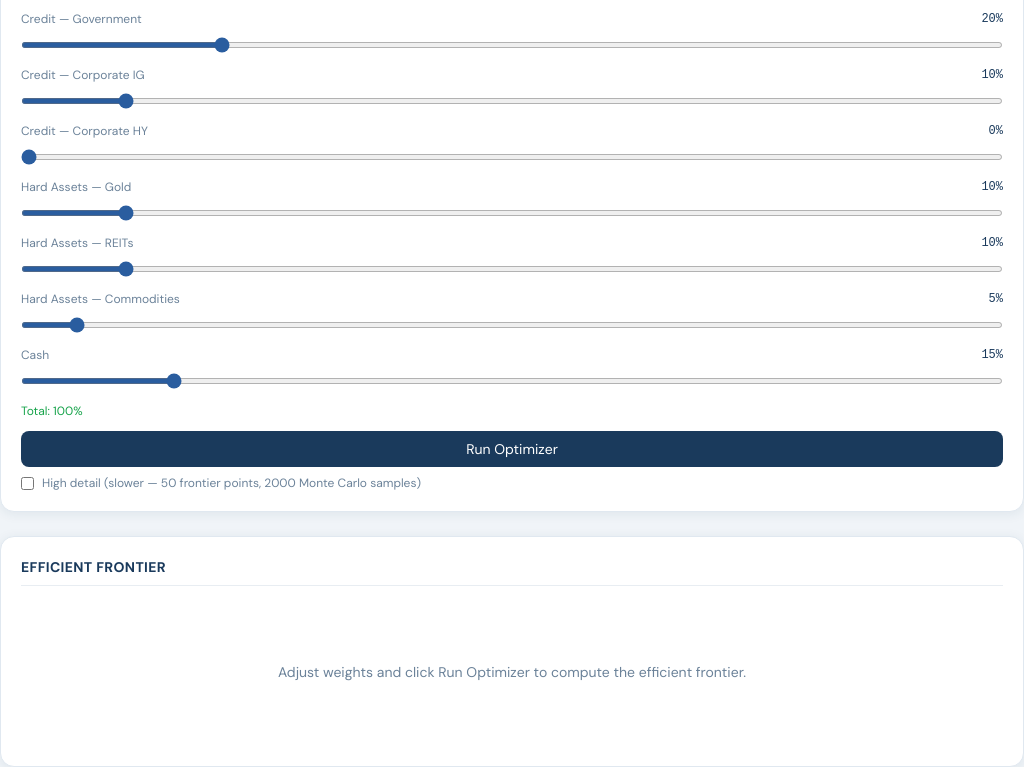
PortfolioPage › shows current allocation breakdown without comparison columns
(page scrolled)
Expected: the heading "Efficient Frontier" is shown, top-left (21, 557), bottom-right (1003, 586)
Click the button "Run Optimizer". click: (512, 449)
box: top-left (21, 431), bottom-right (1003, 467)
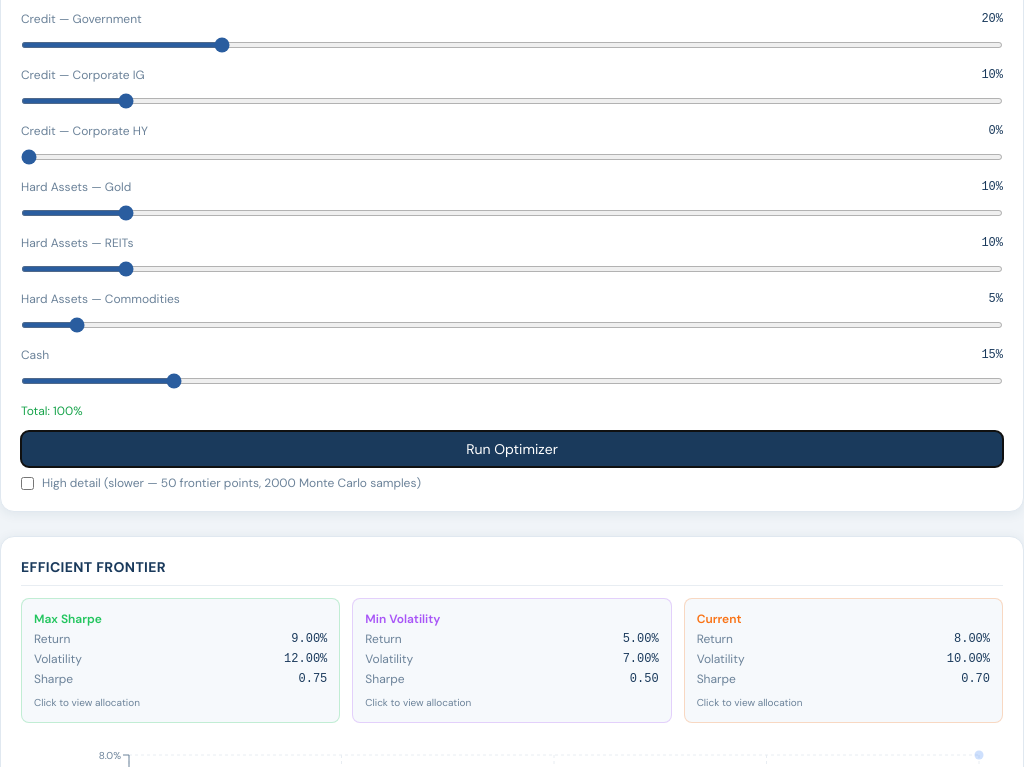
Now the button "Current" is shown
Click the button "Current". click: (719, 619)
box: top-left (684, 598), bottom-right (1003, 723)
(page scrolled)
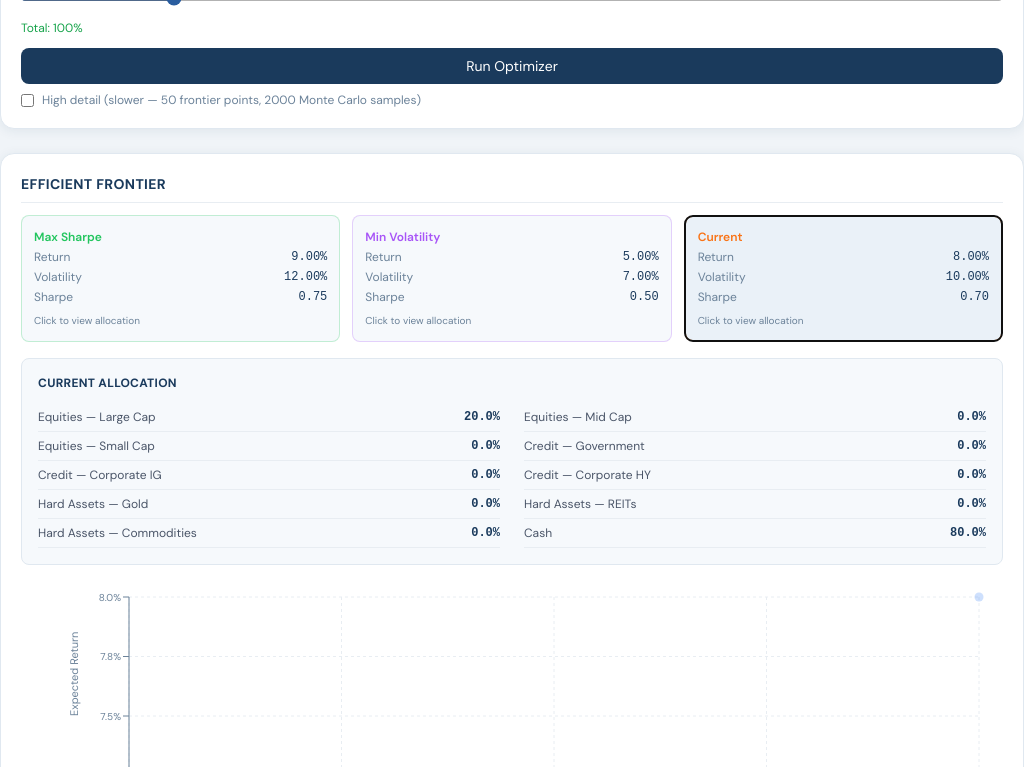
Now the heading "Current Allocation" is shown, box top-left (38, 375), bottom-right (177, 391)
